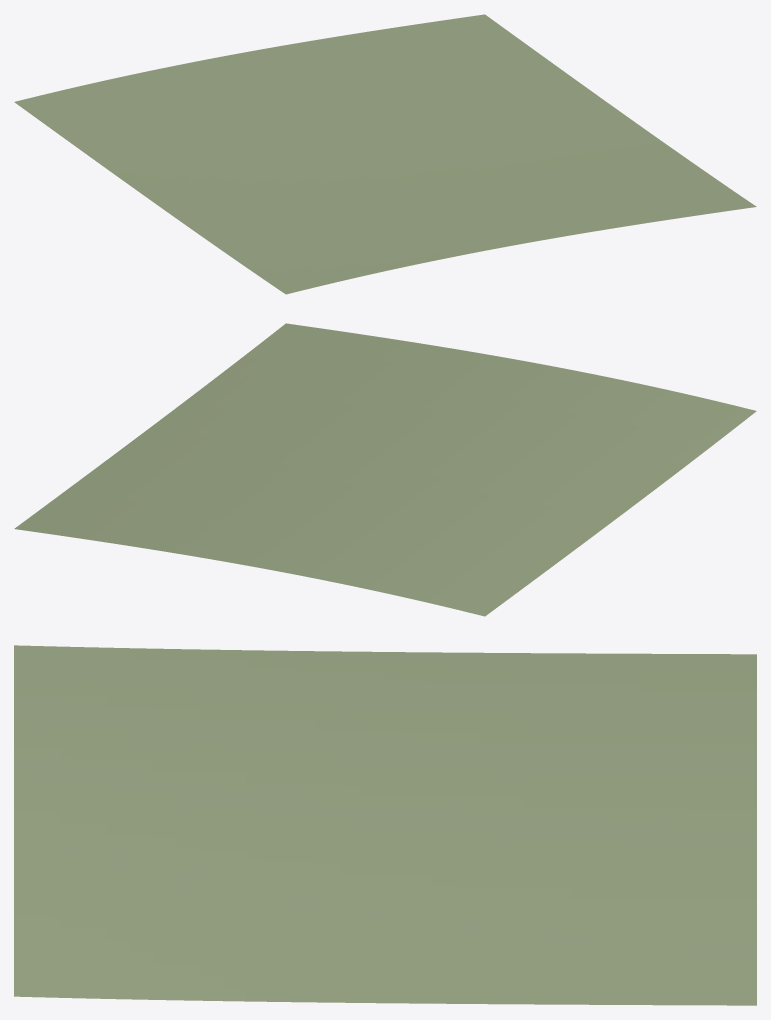
File: valley-11-11.glb
The picture shows the model from 3 angles, top to bottom: view 1: azimuth 30°, elevation 25°; view 2: azimuth 150°, elevation 25°; view 3: azimuth 270°, elevation 25°; orthographic projection. The views are drawn at different scales.
Visible parts, largest first — view 1: valley-11-11; view 2: valley-11-11; view 3: valley-11-11.
Boxes of the visible parts, <box> form: valley-11-11: <box>14,14,756,294</box>; valley-11-11: <box>14,323,756,616</box>; valley-11-11: <box>14,645,756,1005</box>.
Size of the model in its own units: 256 by 17.61 by 256.
